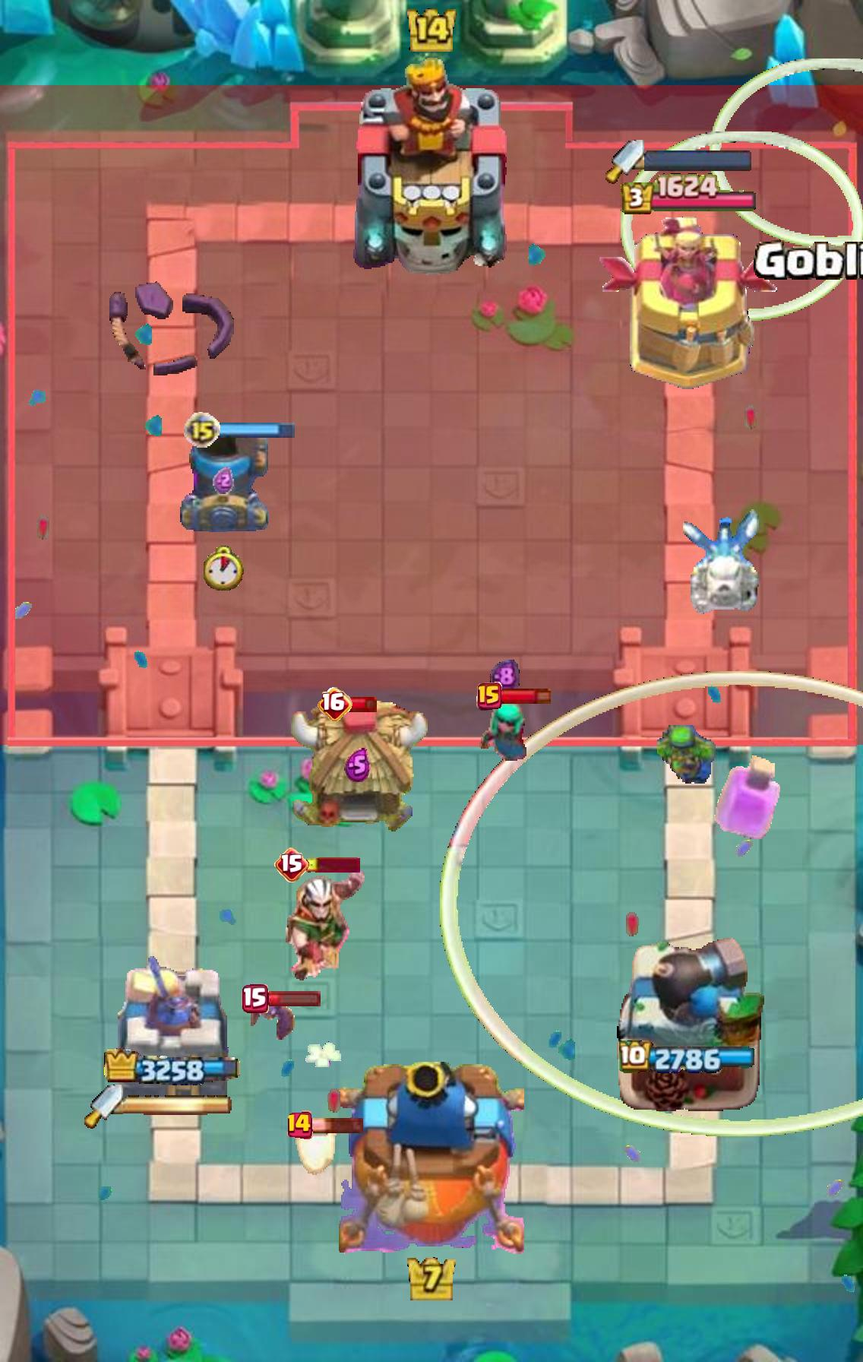bar: (498, 686, 552, 706), (309, 1116, 365, 1134), (265, 990, 321, 1007), (305, 857, 360, 873), (349, 696, 378, 713)
bar-level: (274, 847, 309, 882), (318, 687, 352, 721), (241, 984, 269, 1013), (476, 682, 502, 711), (287, 1110, 313, 1139)
